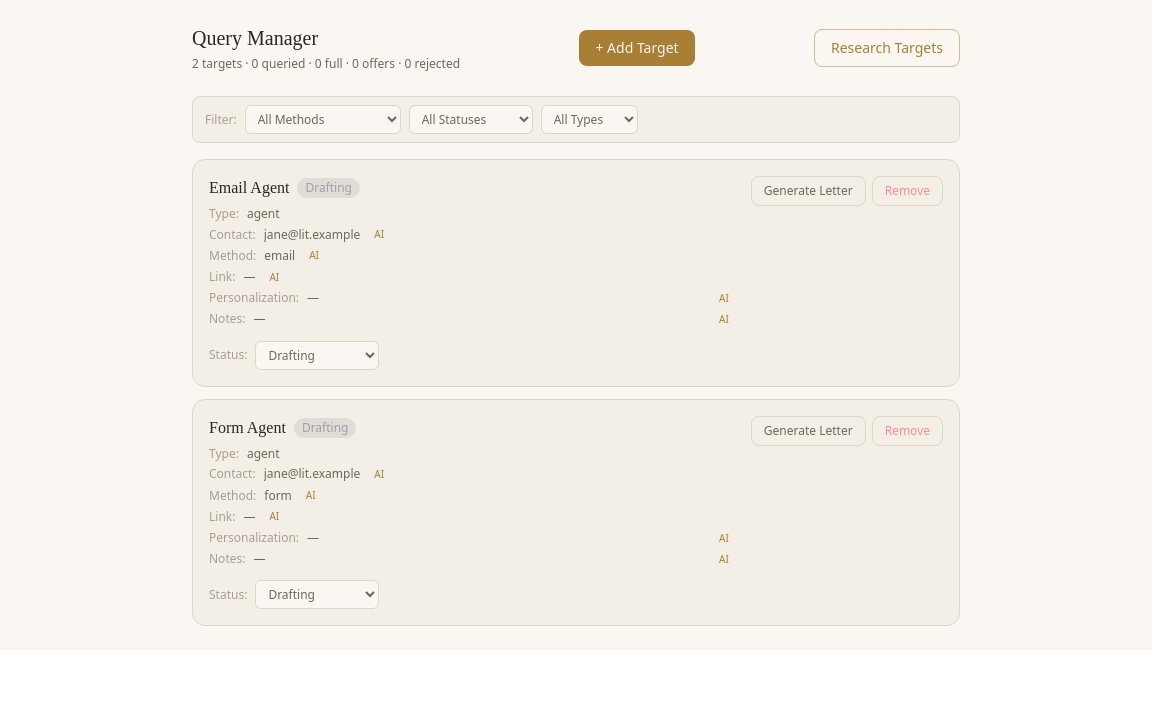
Test case: QueryManagerView › filters targets and clears filters again
Check: the heading "Email Agent" is shown, box [209,176,289,200]
// FilterBar's method select is the first combobox on the page
Select "Website Only" in the 1st dropdown at (323, 120), box [245,105,401,134]
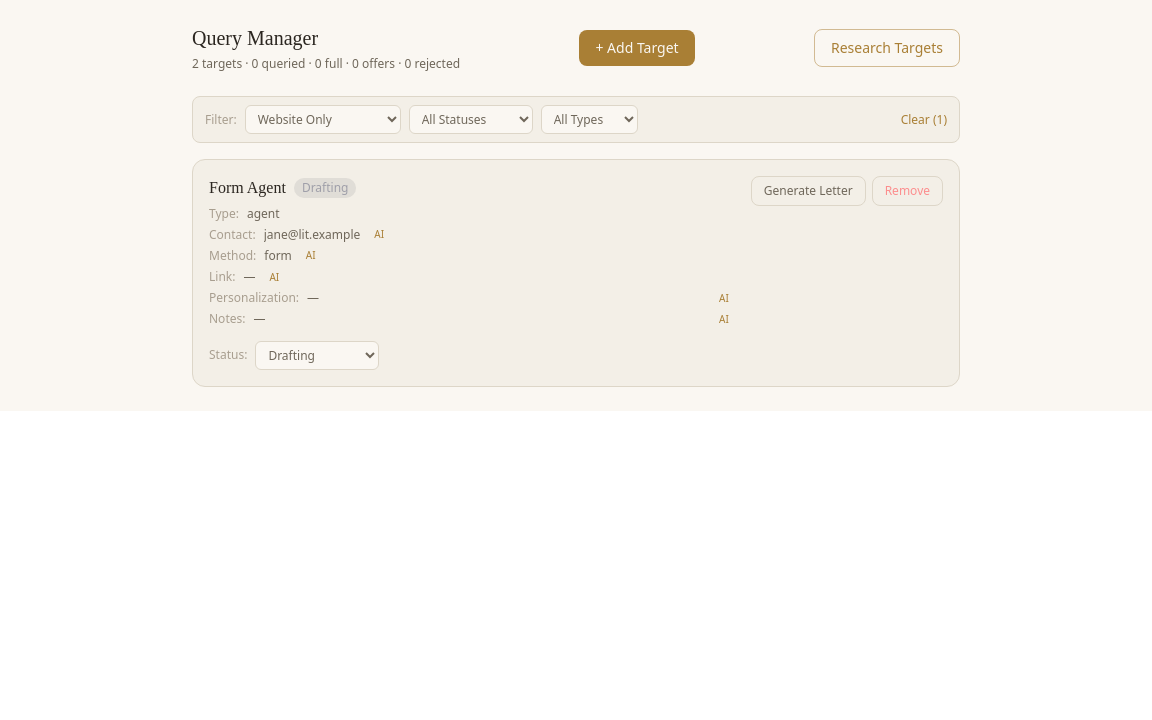
Check: the heading "Form Agent" is shown, box [209,176,286,200]
Check: the heading "Email Agent" is gone
Click the button "Clear (1)" at (924, 120), box [901,112,947,128]
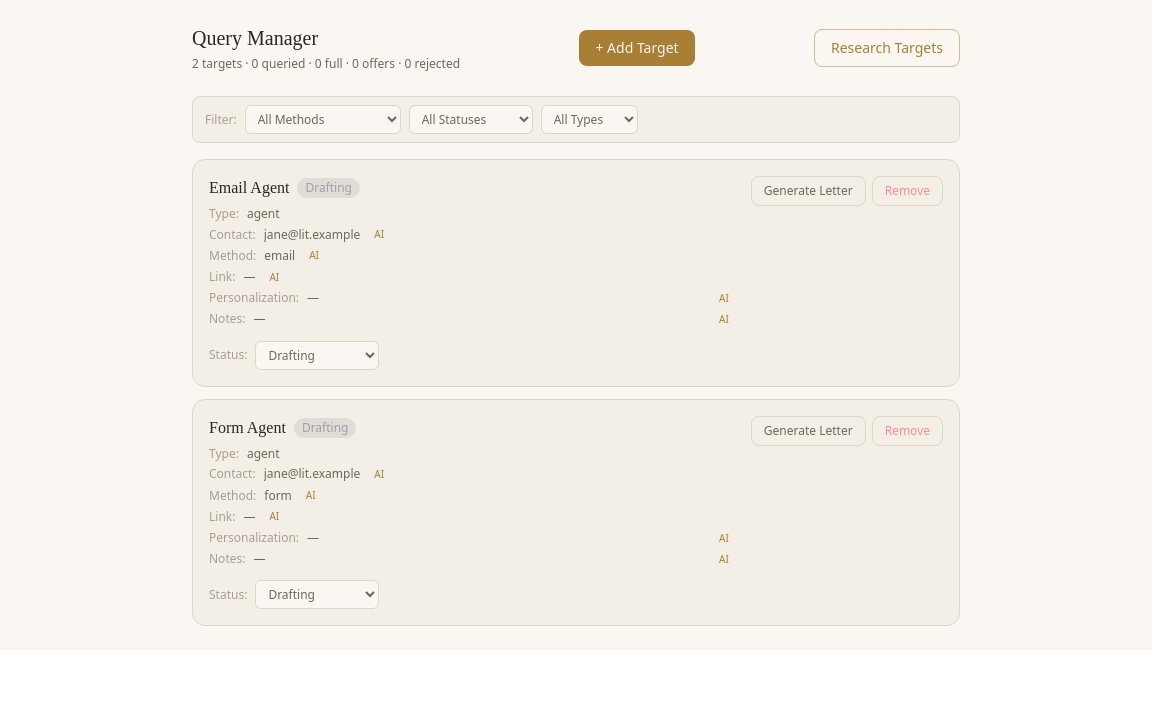
Check: the heading "Email Agent" is shown, box [209,176,289,200]
